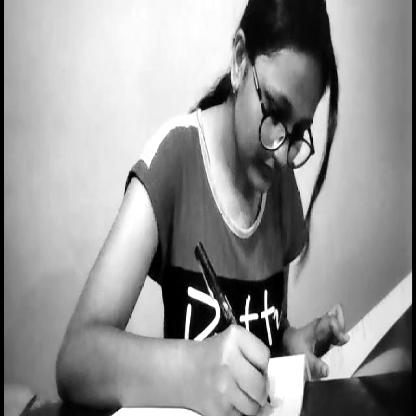Distracted: (226, 0, 340, 205)
